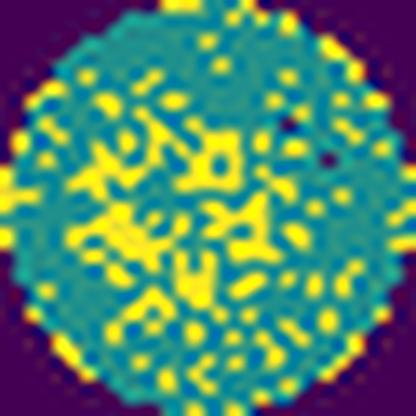Donut: (75, 92, 318, 321)
